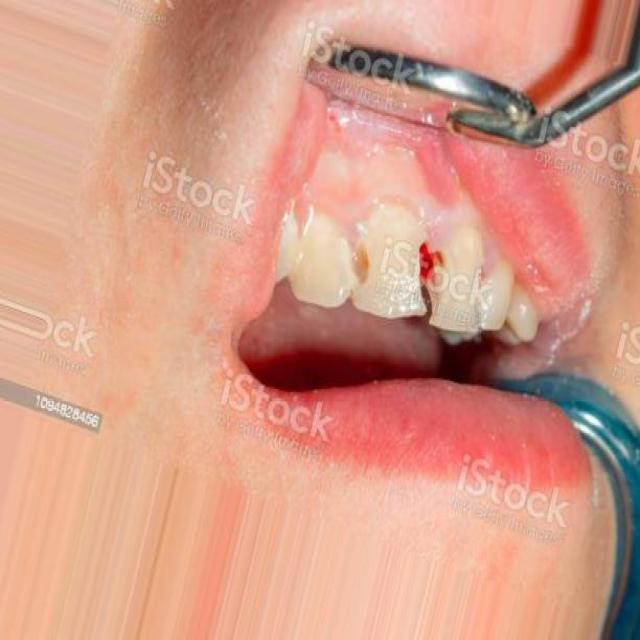caries: (408, 226, 456, 303), (339, 223, 382, 290)
